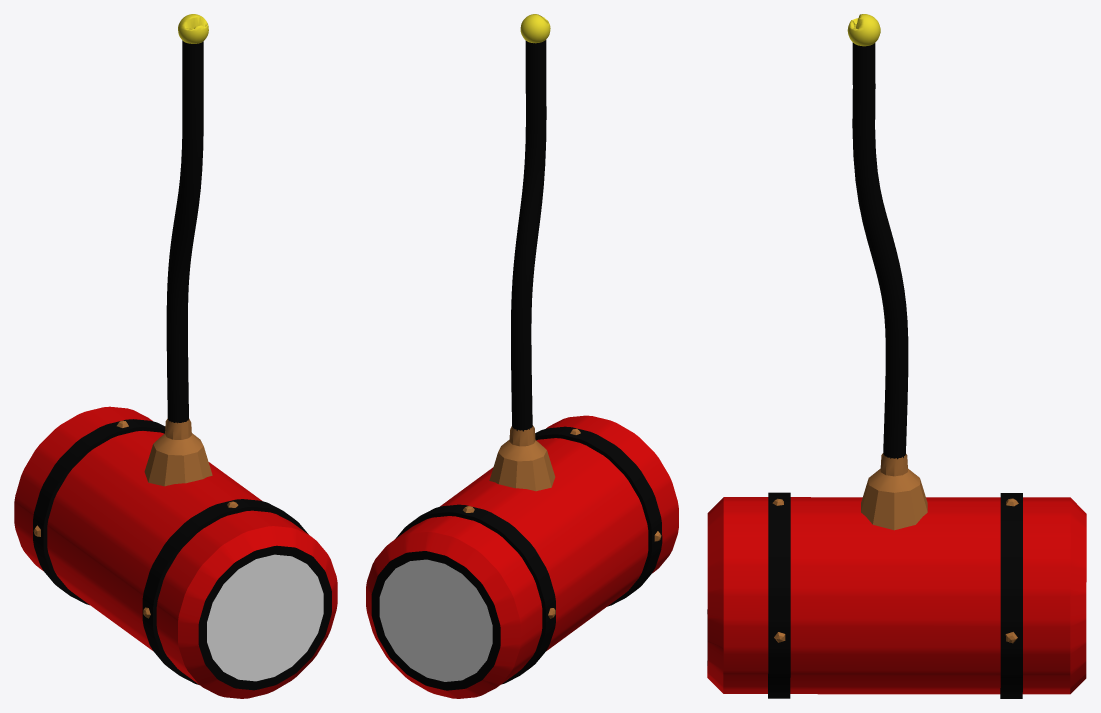
File: Jam_EasterEgg_01.fbx
The picture shows the model from 3 angles, left to right: view 1: azimuth 30°, elevation 25°; view 2: azimuth 150°, elevation 25°; view 3: azimuth 270°, elevation 25°; orthographic projection. The views are drawn at different scales.
Visible parts, largest first — view 1: pasted__pasted__pasted__pasted__pasted__pSphere4; view 2: pasted__pasted__pasted__pasted__pasted__pSphere4; view 3: pasted__pasted__pasted__pasted__pasted__pSphere4.
Boxes of the visible parts, box(x1,y1,x2,y2) form: pasted__pasted__pasted__pasted__pasted__pSphere4: box(14, 14, 337, 698); pasted__pasted__pasted__pasted__pasted__pSphere4: box(366, 14, 678, 698); pasted__pasted__pasted__pasted__pasted__pSphere4: box(707, 14, 1086, 698).
Bounding box in the file's own units: 10.96 × 38.26 × 19.39.
